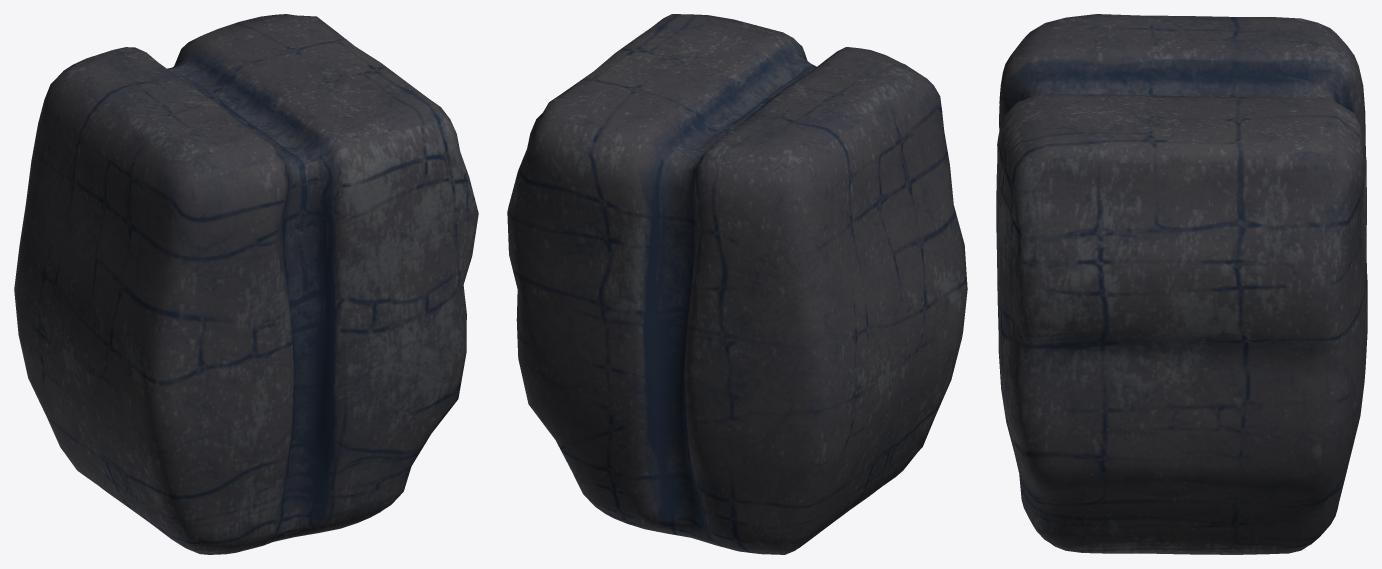
The model's file is gros_block2.obj.
3 renders of one model, left to right at view 1: azimuth 30°, elevation 25°; view 2: azimuth 150°, elevation 25°; view 3: azimuth 270°, elevation 25°, orthographic. The views are drawn at different scales.
Visible parts, largest first — view 1: gros_block2:ZBrush_defualt_group; view 2: gros_block2:ZBrush_defualt_group; view 3: gros_block2:ZBrush_defualt_group.
Part boxes in pixels (left/top/right/bottom): gros_block2:ZBrush_defualt_group: left=14, top=14, right=478, bottom=554; gros_block2:ZBrush_defualt_group: left=507, top=14, right=967, bottom=554; gros_block2:ZBrush_defualt_group: left=996, top=14, right=1367, bottom=554.
Size of the model in its own units: 3871 by 4693 by 3558.
Materials: 1 (1 with a texture image).
